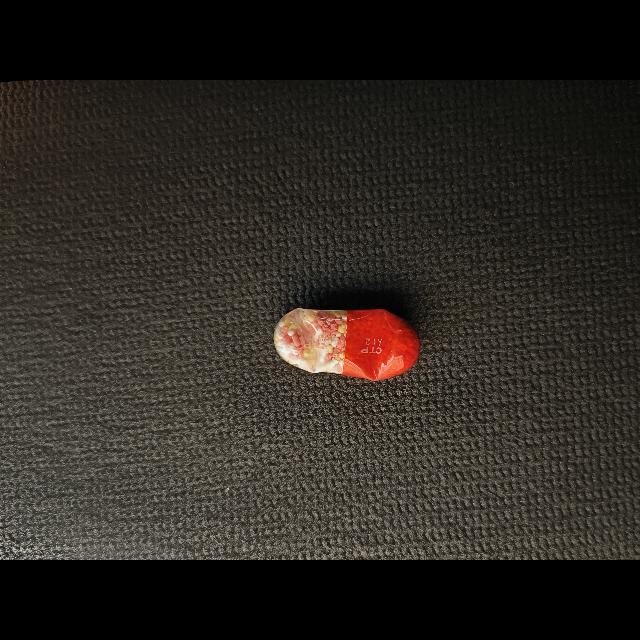Defective Capsule: (273, 308, 421, 381)
